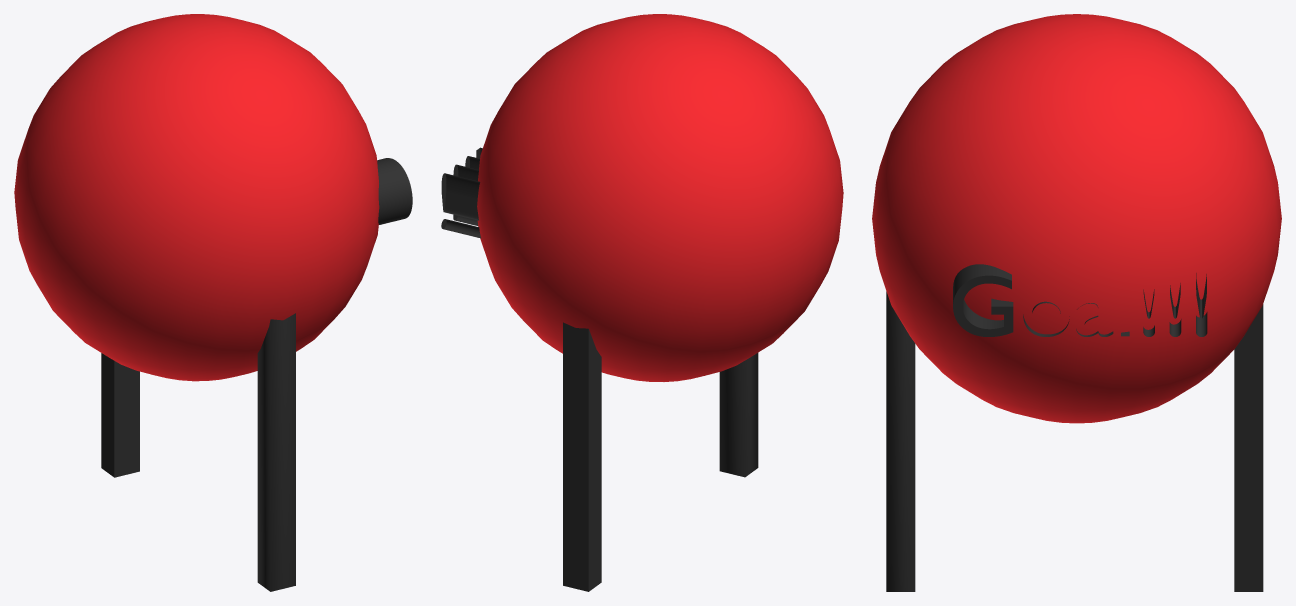
The model's file is Goal_Flag 1.fbx.
3 renders of one model, left to right at view 1: azimuth 30°, elevation 25°; view 2: azimuth 150°, elevation 25°; view 3: azimuth 270°, elevation 25°, orthographic. The views are drawn at different scales.
Visible parts, largest first — view 1: Sphere, Cube, Cube.001, Text; view 2: Sphere, Cube.001, Cube, Text; view 3: Sphere, Cube, Cube.001, Text.
Part boxes in pixels (bbox=[...]): Sphere: bbox=[14, 14, 379, 381]; Cube: bbox=[257, 313, 295, 591]; Cube.001: bbox=[101, 353, 139, 477]; Text: bbox=[377, 158, 412, 224]; Sphere: bbox=[477, 14, 843, 381]; Cube.001: bbox=[563, 322, 601, 591]; Cube: bbox=[719, 353, 758, 477]; Text: bbox=[441, 147, 482, 238]; Sphere: bbox=[872, 14, 1281, 423]; Cube: bbox=[886, 291, 915, 591]; Cube.001: bbox=[1234, 304, 1263, 591]; Text: bbox=[953, 264, 1207, 336].
Bounding box in the file's own units: 423 × 628 × 423.
1 material, 1 textured.
